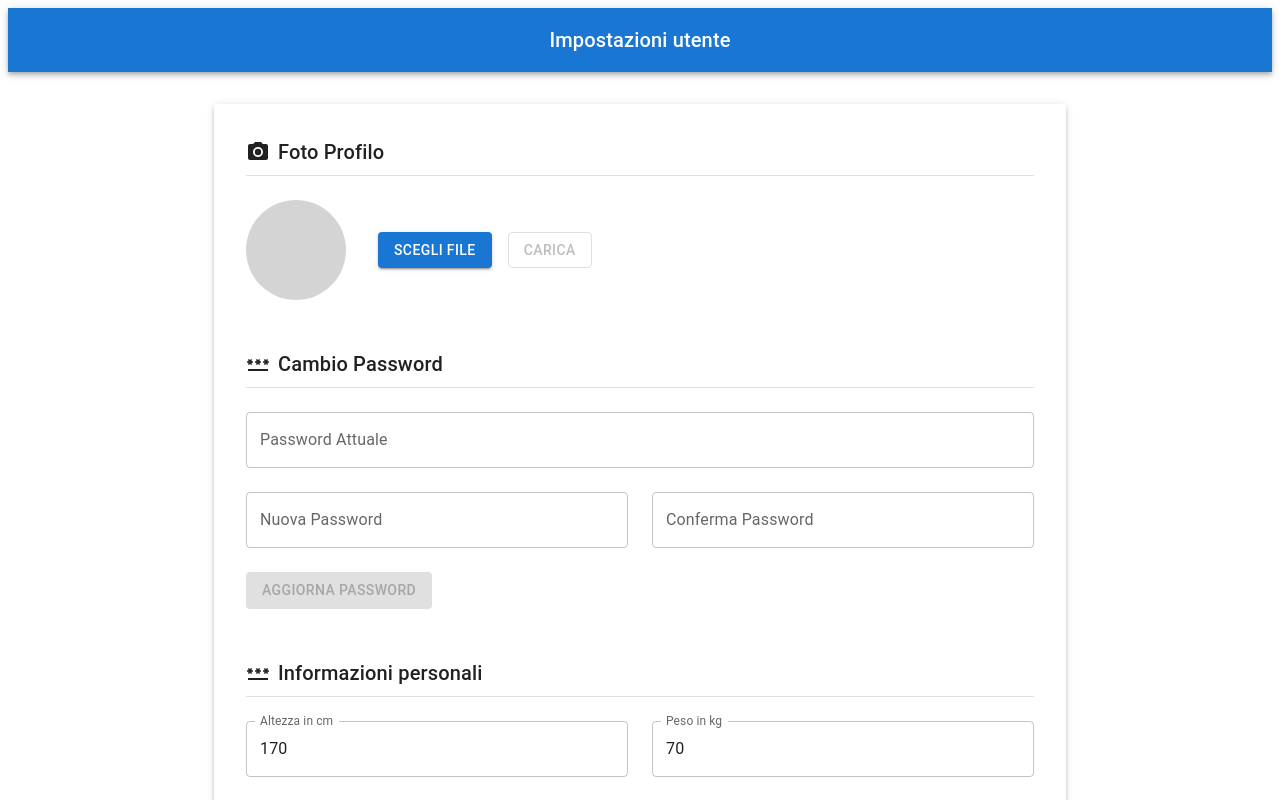
Test: Settings Component › should show error when password update fails
This screenshot has width=1280, height=800.
Step 1. Type "wrongPassword" into the password field labelled "Password Attuale" → x=640, y=440, box top-left (246, 412), bottom-right (1034, 468)
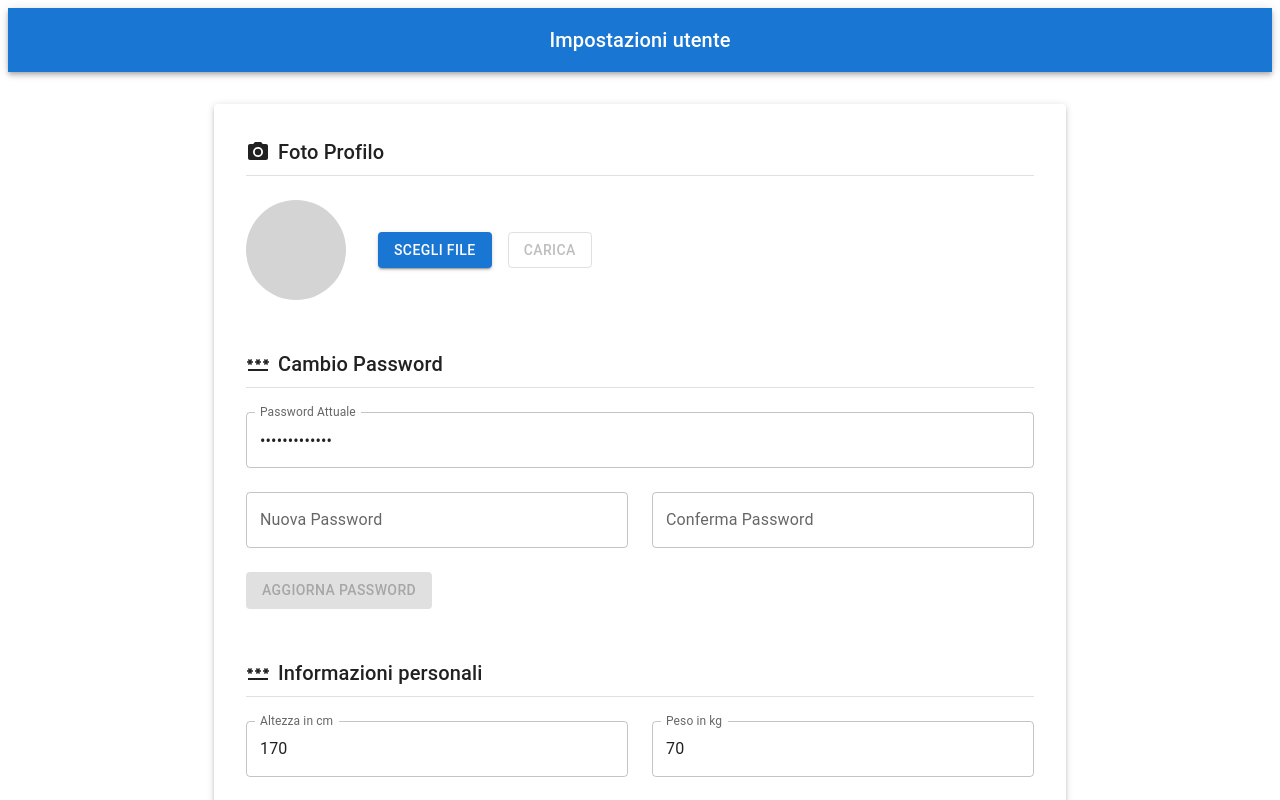
Step 2. Type "newPassword" into the password field labelled "Nuova Password" → x=437, y=520, box top-left (246, 492), bottom-right (628, 548)
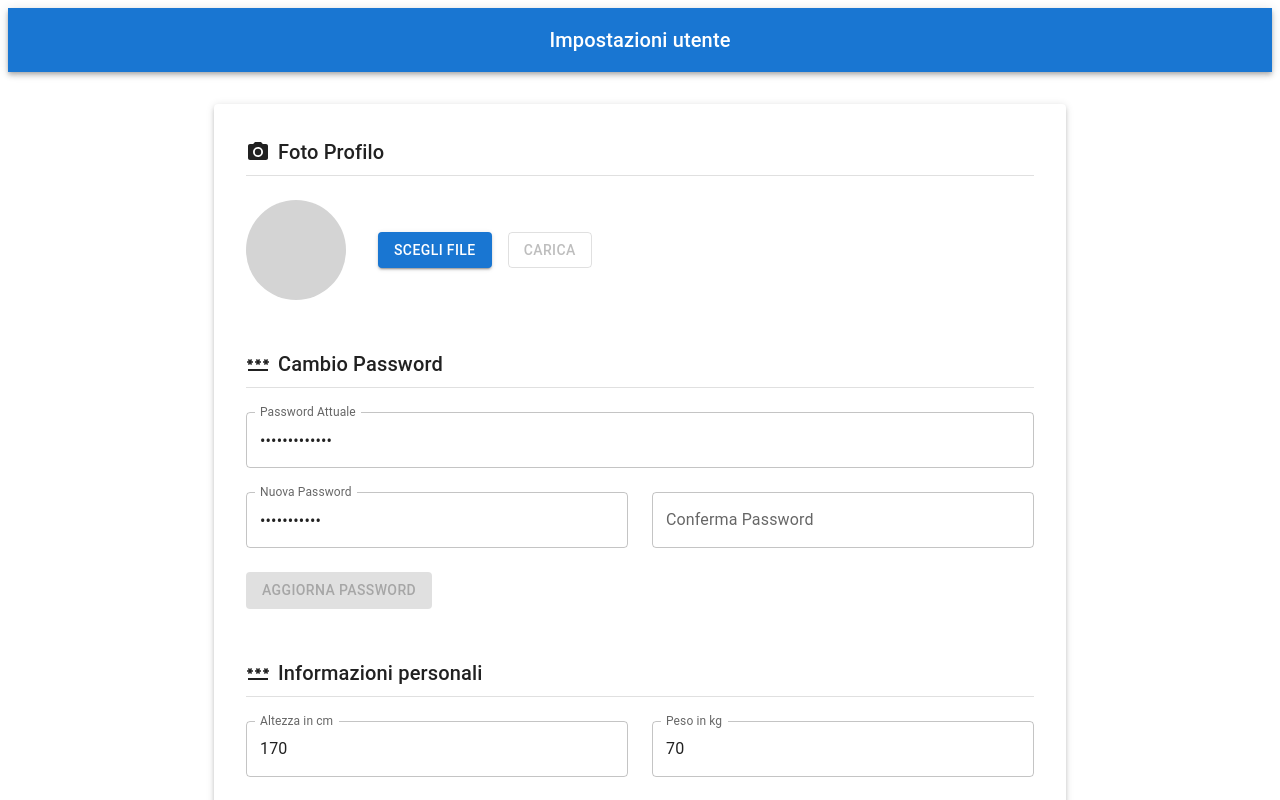
Step 3. Type "newPassword" into the password field labelled "Conferma Password" → x=843, y=520, box top-left (652, 492), bottom-right (1034, 548)
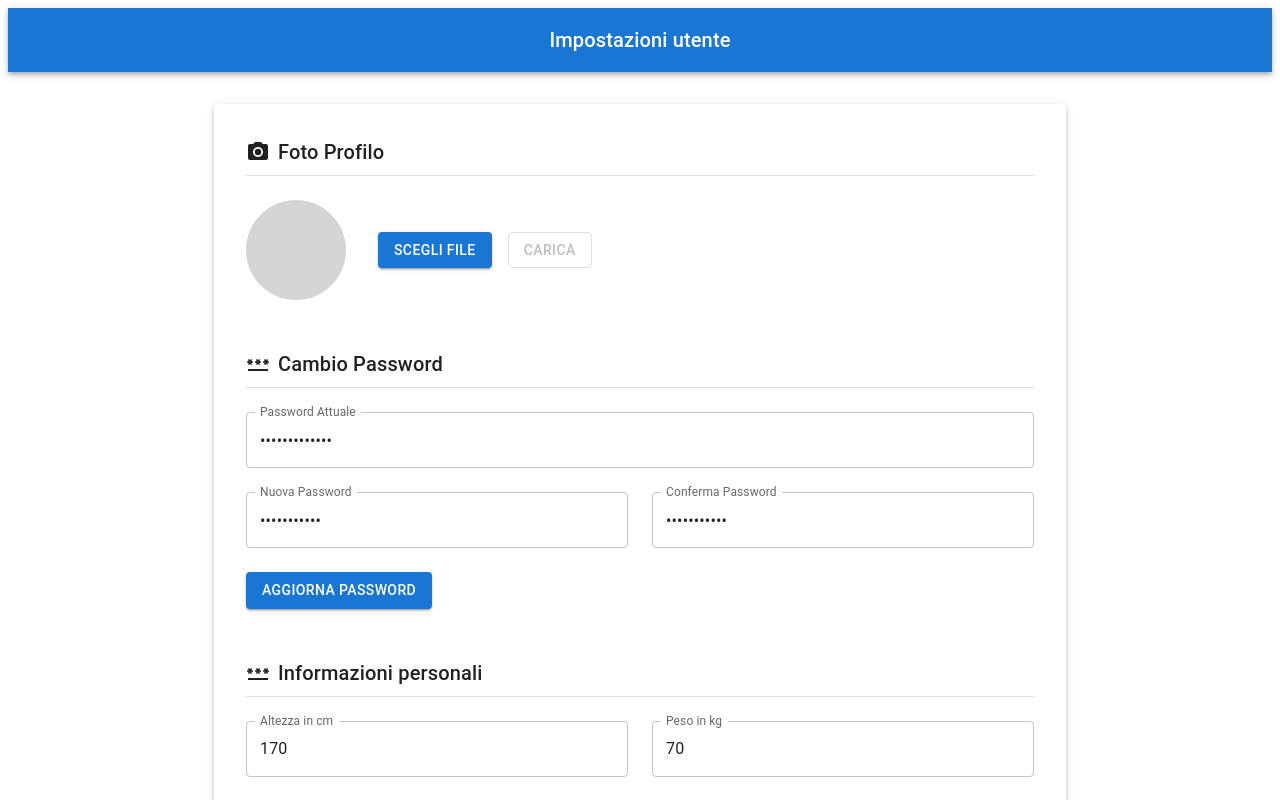
Step 4. Click the button "Aggiorna Password" → x=339, y=590, box top-left (246, 572), bottom-right (432, 608)
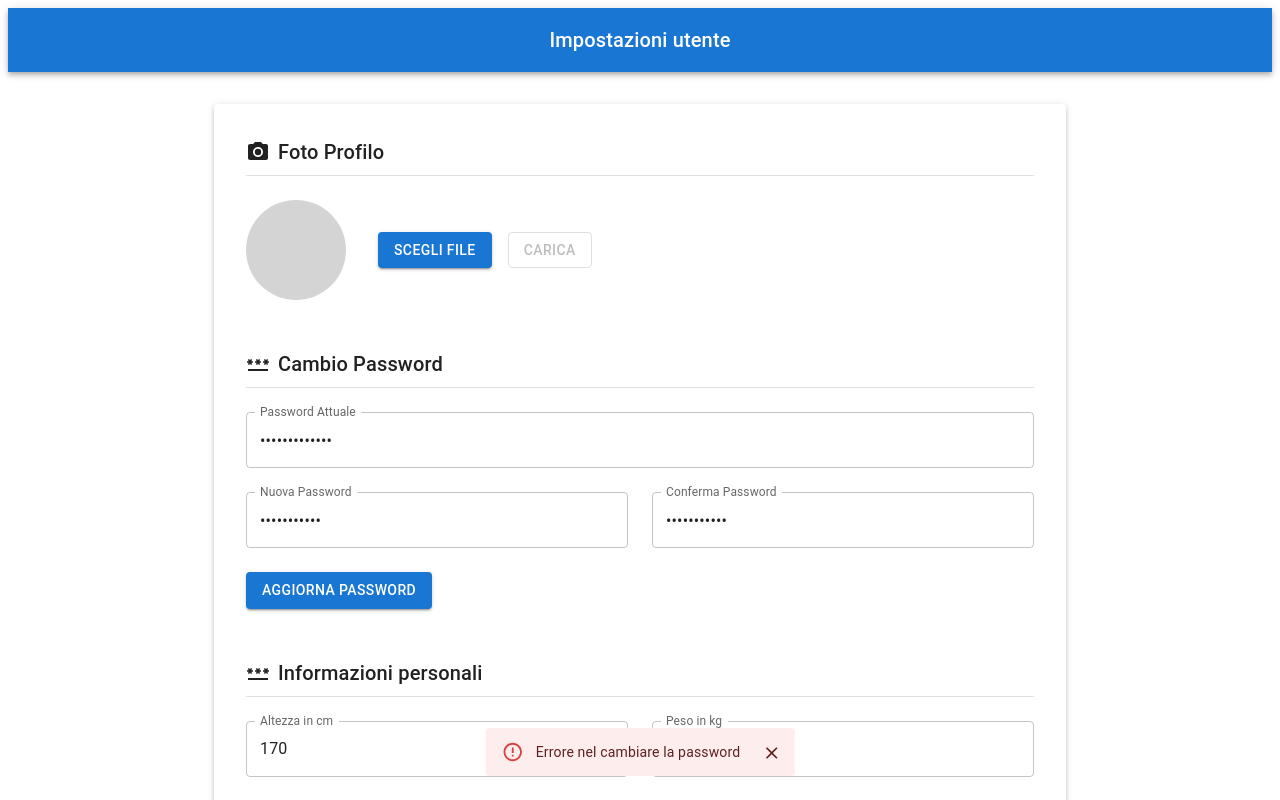
Expected: the text "Errore nel cambiare la password" is shown, top-left (536, 744), bottom-right (740, 760)
